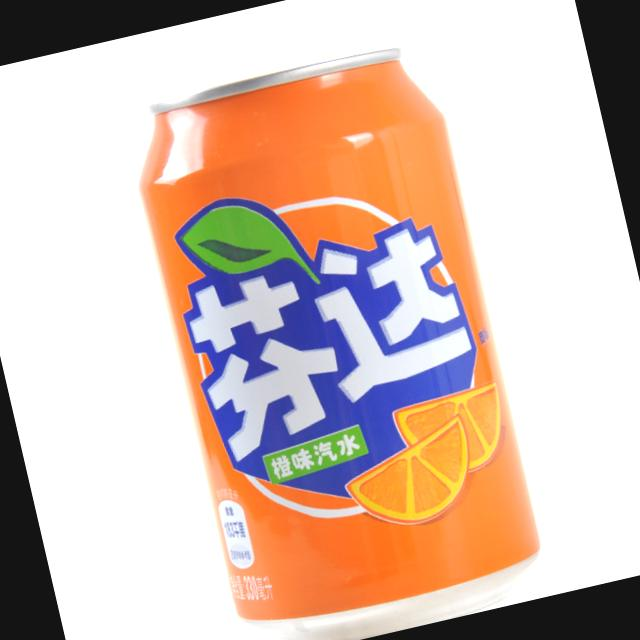can: (113, 30, 560, 640)
